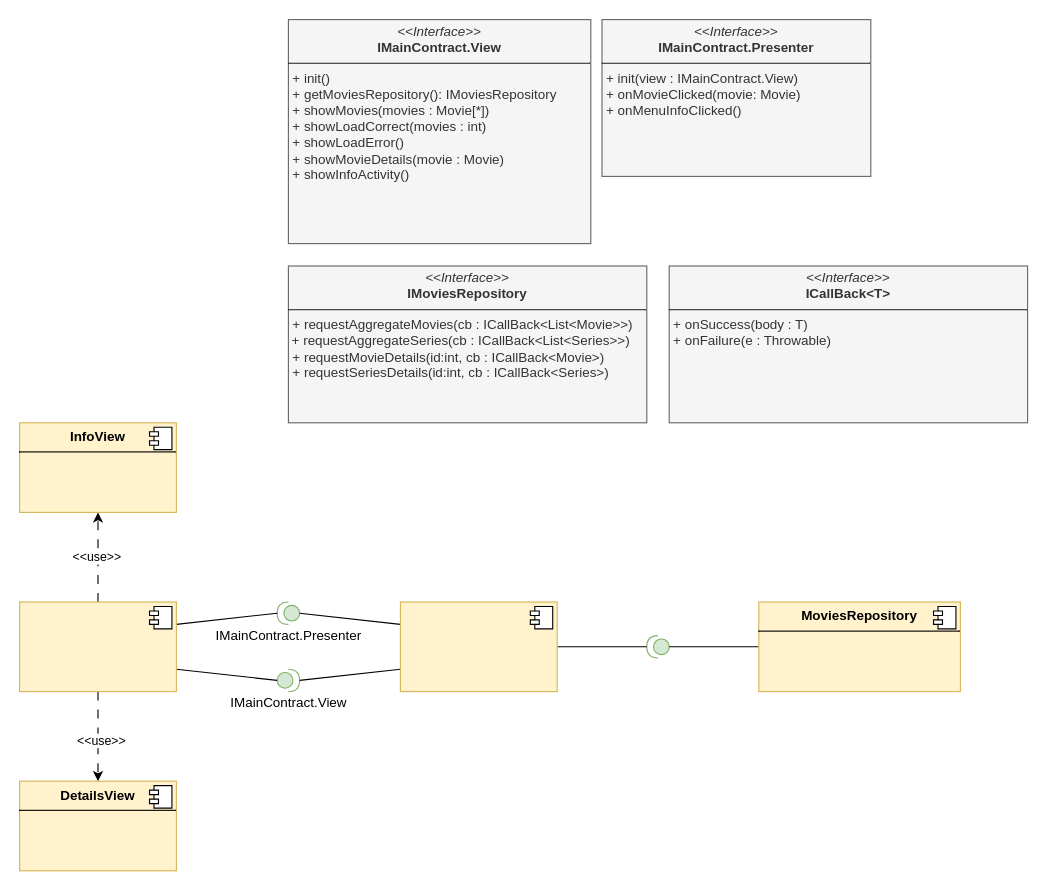
Some shapes in this 1047 by 890 pixel diagram are drawn without their labels. The shapes that lost their labels are listed below. From the top down, each one's box as (x1, y1, x2, y2) in pixels, then its label:
(18, 601, 176, 692): MainView
(399, 601, 557, 692): MainPresenter - load()
(646, 634, 669, 658): IMoviesRepository
